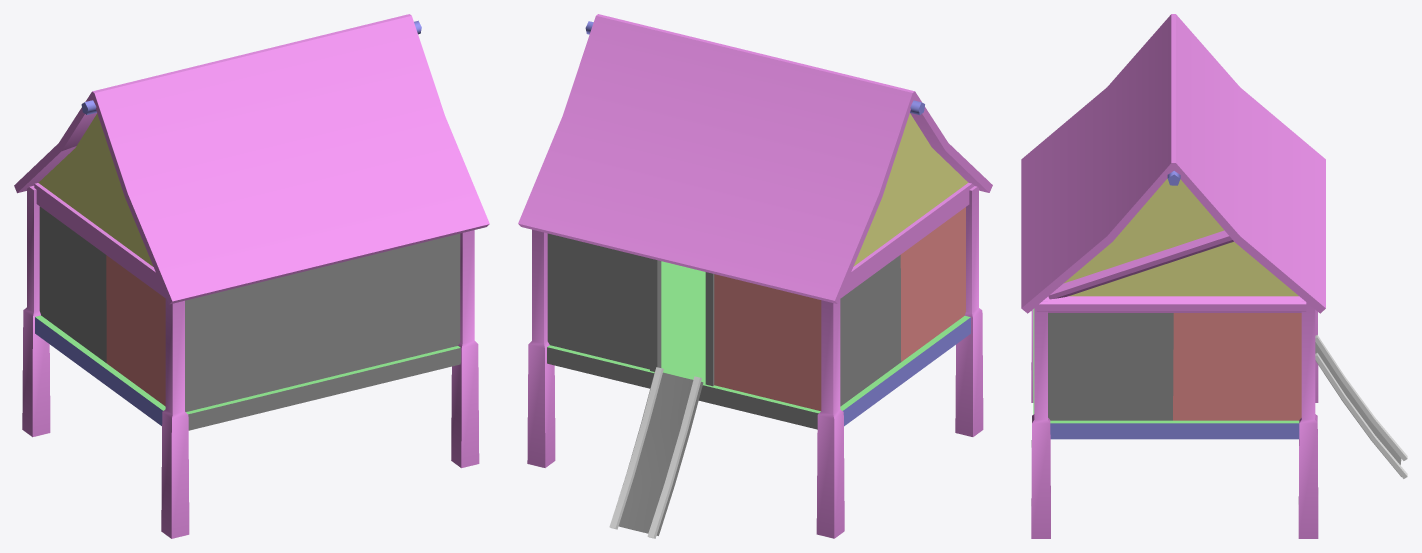
Rendered from PriMT_port_hou01.gltf.
The picture shows the model from 3 angles, left to right: view 1: azimuth 30°, elevation 25°; view 2: azimuth 150°, elevation 25°; view 3: azimuth 270°, elevation 25°; orthographic projection. The views are drawn at different scales.
Parts seen in each view (by area): view 1: PriMT_port_hou01; view 2: PriMT_port_hou01; view 3: PriMT_port_hou01.
Boxes of the visible parts, x1,y1,x2,y2 form: PriMT_port_hou01: (14,14,489,538); PriMT_port_hou01: (518,14,992,538); PriMT_port_hou01: (1021,14,1407,538).
Size of the model in its own units: 2.75 by 3.1 by 2.87.
